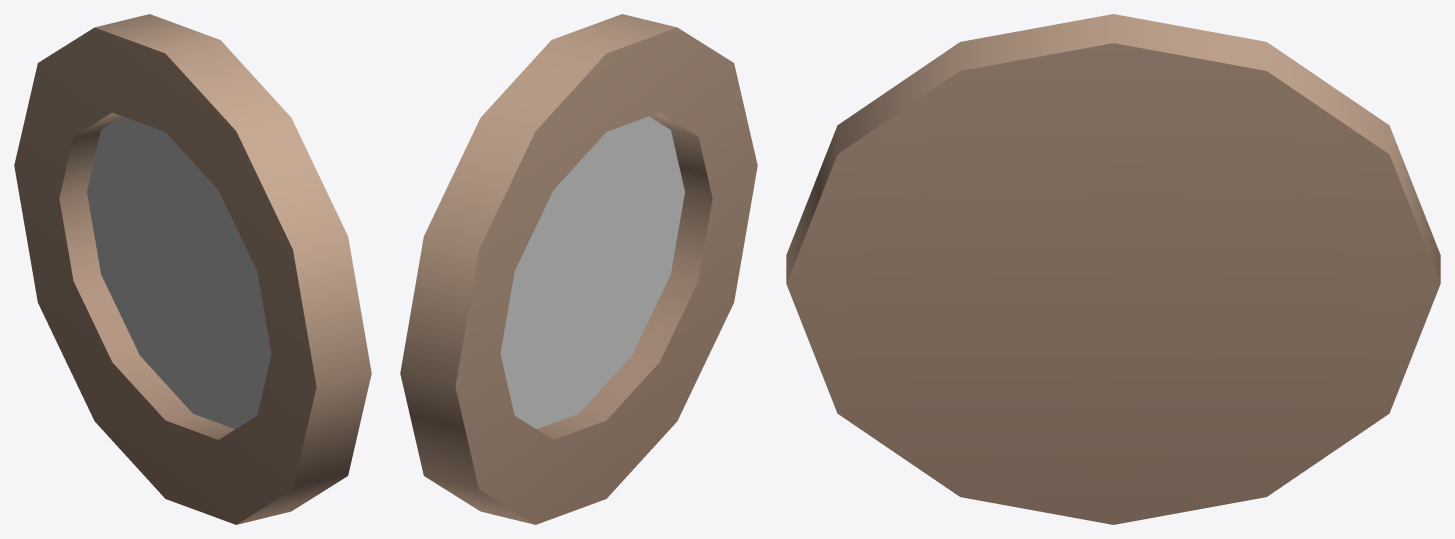
Rendered from art-frame-thick-oval-landscape (%wall).glb.
3 views of the same model, side by side, from view 1: azimuth 30°, elevation 25°; view 2: azimuth 150°, elevation 25°; view 3: azimuth 270°, elevation 25° (orthographic). The views are drawn at different scales.
Parts seen in each view (by area): view 1: art-frame-thick-oval-landscape (%wall); view 2: art-frame-thick-oval-landscape (%wall); view 3: art-frame-thick-oval-landscape (%wall).
Part boxes in pixels (x1,y1,x2,y2): art-frame-thick-oval-landscape (%wall): (14, 14, 371, 524); art-frame-thick-oval-landscape (%wall): (400, 14, 757, 524); art-frame-thick-oval-landscape (%wall): (786, 14, 1440, 524).
Size of the model in its own units: 0.075 by 0.579 by 0.7124.
